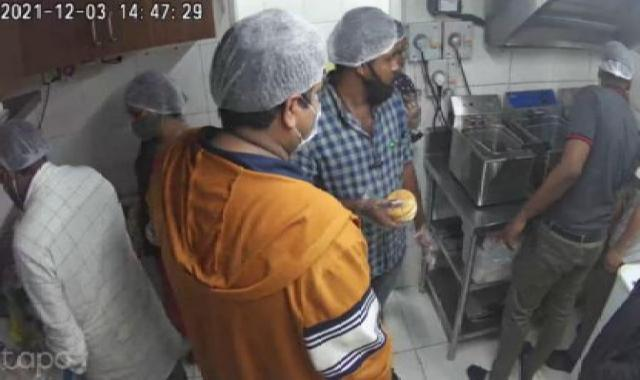hairnet: (210, 11, 336, 120), (323, 4, 415, 69), (121, 64, 193, 119), (0, 120, 60, 170), (591, 35, 640, 92)
